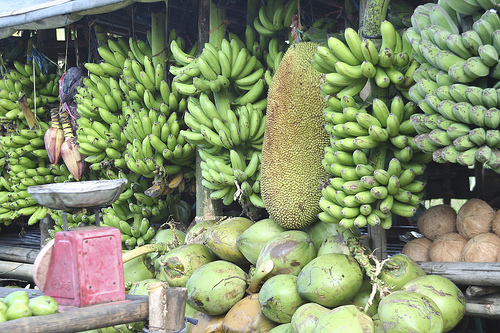jackfruit: (261, 40, 333, 229)
